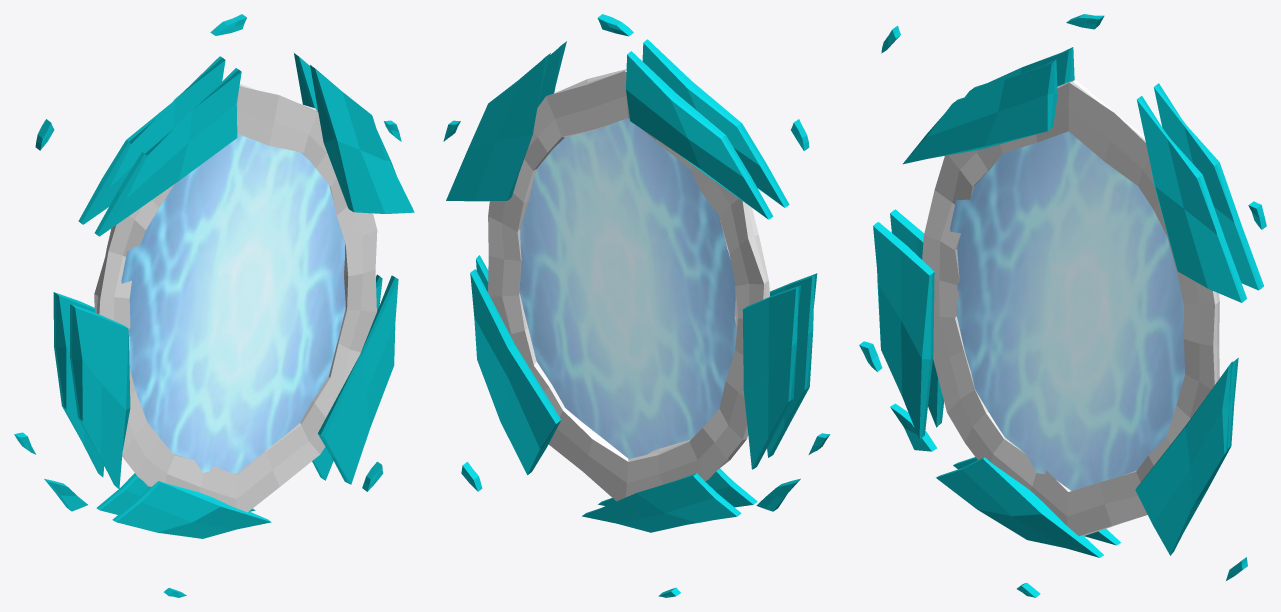
The model's file is portal_4.glb.
The picture shows the model from 3 angles, left to right: view 1: azimuth 30°, elevation 25°; view 2: azimuth 150°, elevation 25°; view 3: azimuth 330°, elevation 25°; orthographic projection. The views are drawn at different scales.
Visible parts, largest first — view 1: Circle, Mesh_1.001, Mesh_2.002; view 2: Circle, Mesh_1.001, Mesh_2.002; view 3: Circle, Mesh_1.001, Mesh_2.002.
Boxes of the visible parts, box(x1,y1,x2,y2) form: Circle: box(121, 134, 345, 473); Mesh_1.001: box(14, 14, 414, 597); Mesh_2.002: box(94, 84, 377, 512); Circle: box(519, 118, 736, 458); Mesh_1.001: box(443, 14, 830, 597); Mesh_2.002: box(488, 69, 769, 501); Circle: box(950, 131, 1184, 490); Mesh_1.001: box(859, 14, 1266, 597); Mesh_2.002: box(922, 79, 1219, 536).
Size of the model in its own units: 2.63 by 3.71 by 0.3947.
3 materials, 1 textured.
